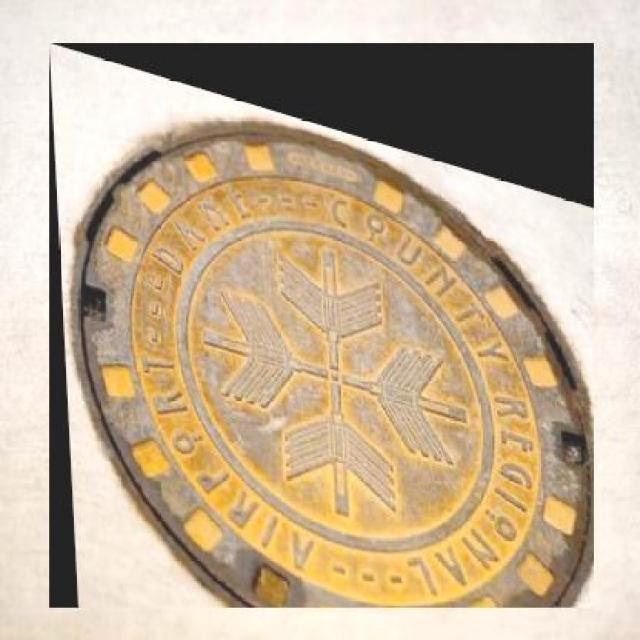Manhole: (50, 43, 595, 608)
